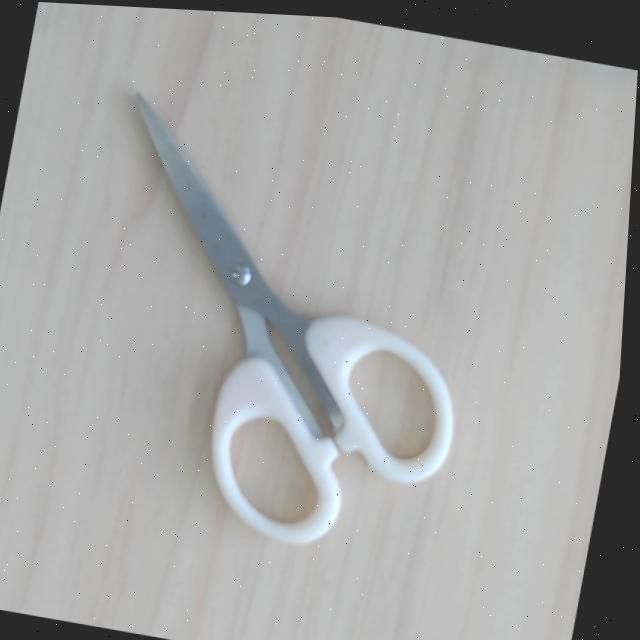Gunting: (0, 93, 488, 594)
